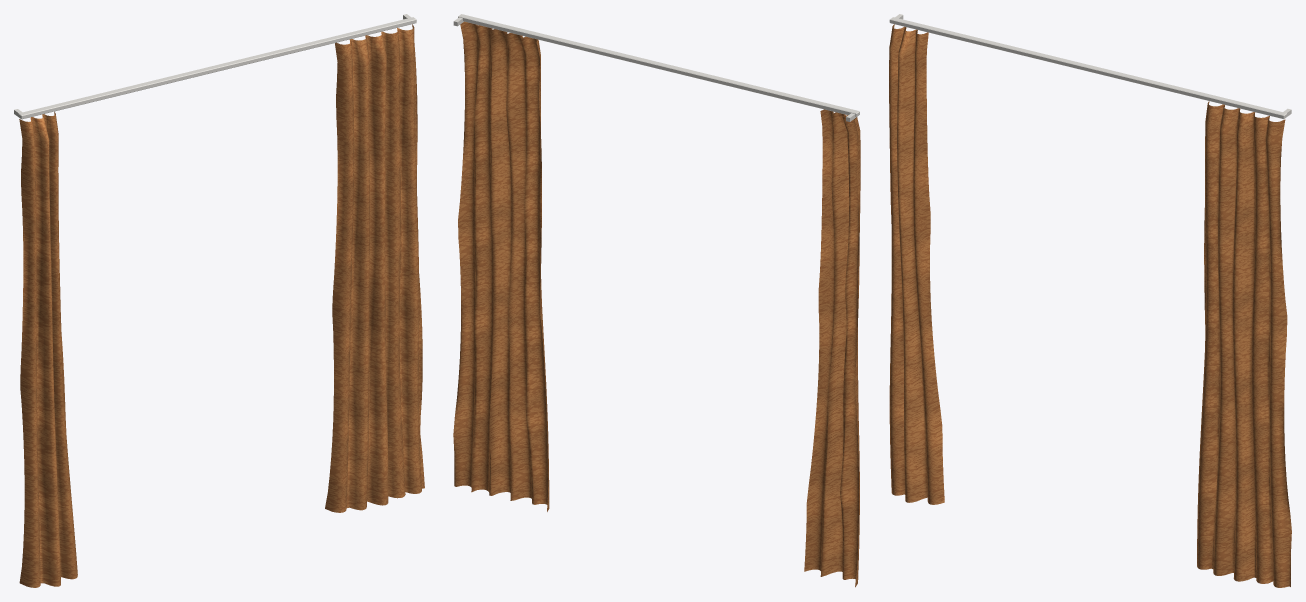
Rendered from drapes.glb.
The picture shows the model from 3 angles, left to right: view 1: azimuth 30°, elevation 25°; view 2: azimuth 150°, elevation 25°; view 3: azimuth 330°, elevation 25°; orthographic projection.
Parts seen in each view (by area): view 1: drapes; view 2: drapes; view 3: drapes.
Boxes of the visible parts, x1,y1,x2,y2 form: drapes: (14,14,424,587); drapes: (453,14,860,587); drapes: (889,14,1291,587).
Bounding box in the file's own units: 2.47 × 2.75 × 0.1972.
2 materials, 1 textured.
